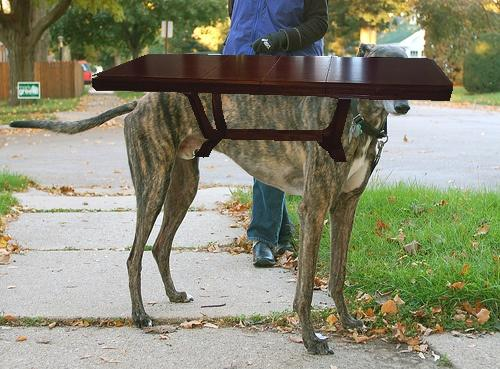tampered: (93, 55, 453, 162)
